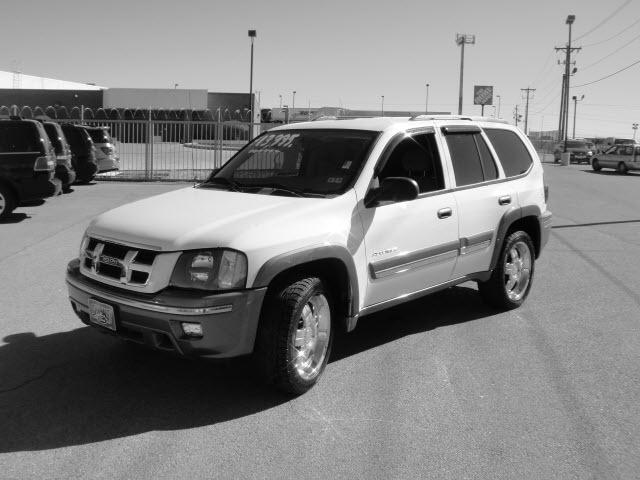car: (59, 121, 553, 393)
